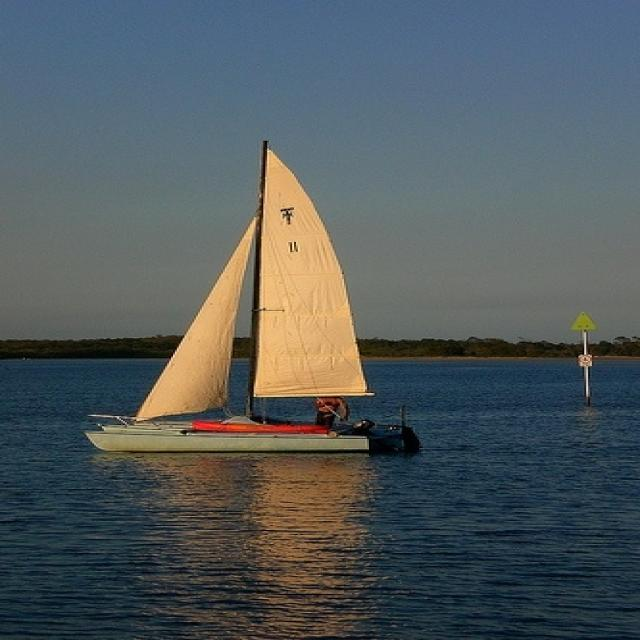Ship: (104, 141, 427, 458)
